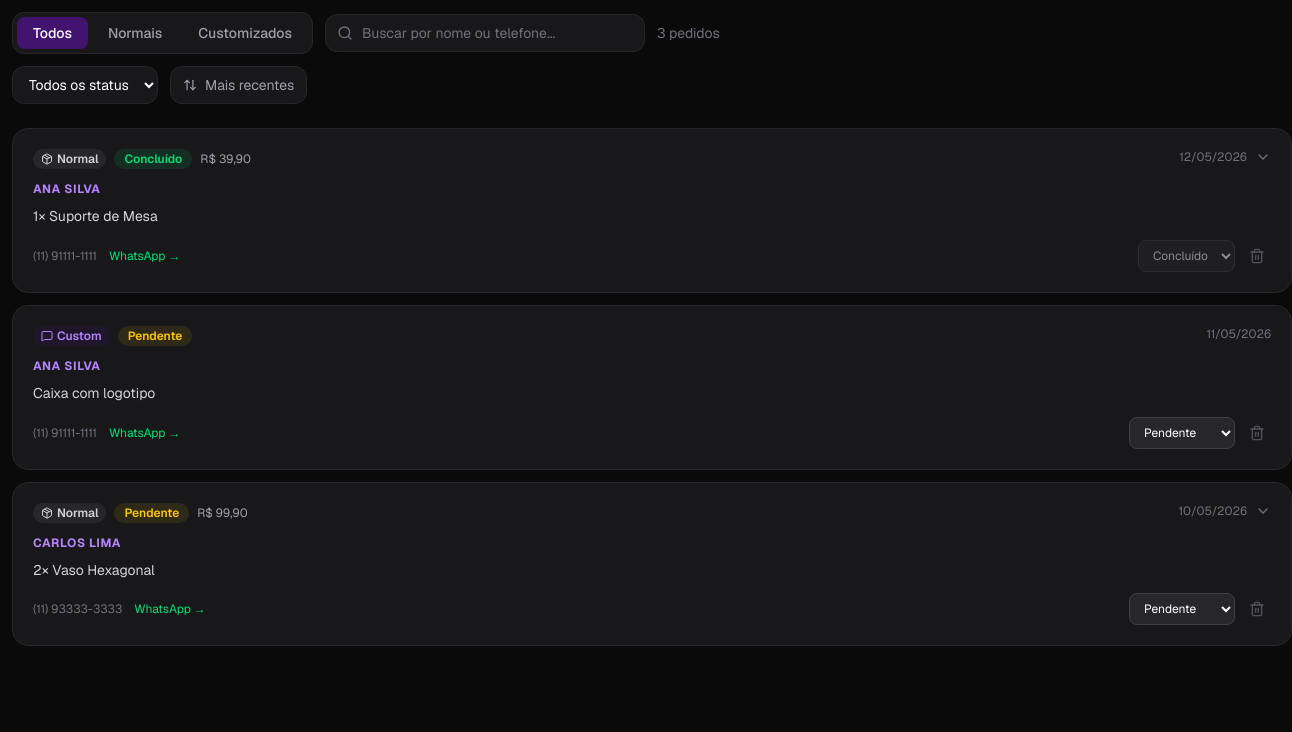
it: OrdersPanel › shows only custom orders in "Customizados" tab
Click the button "Customizados": (245, 33) [182,17,308,49]
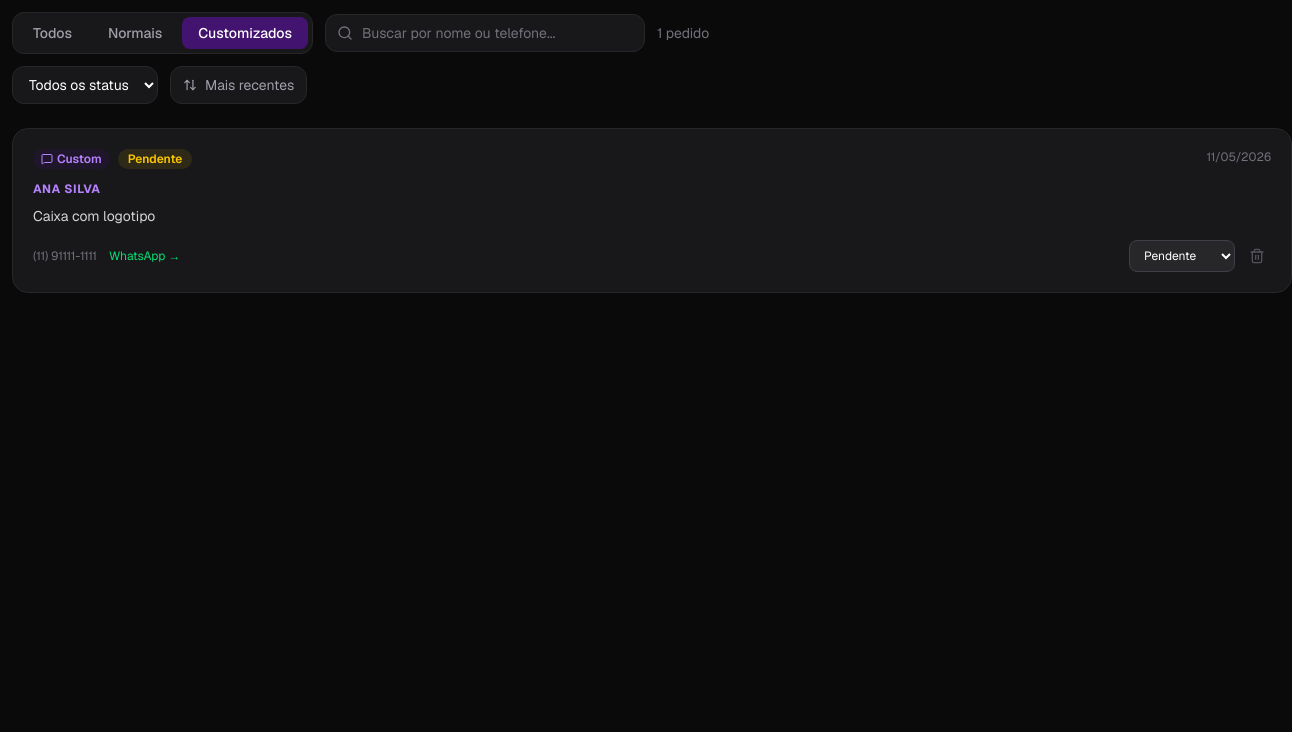
Expected: the text "Caixa com logotipo" is shown, [33,207,155,225]
Expected: the text "2× Vaso Hexagonal" is gone
